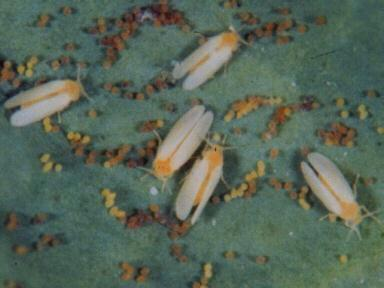whitefly: (300, 149, 379, 241), (136, 104, 213, 191), (173, 18, 252, 91), (4, 65, 91, 127), (176, 130, 232, 226)
